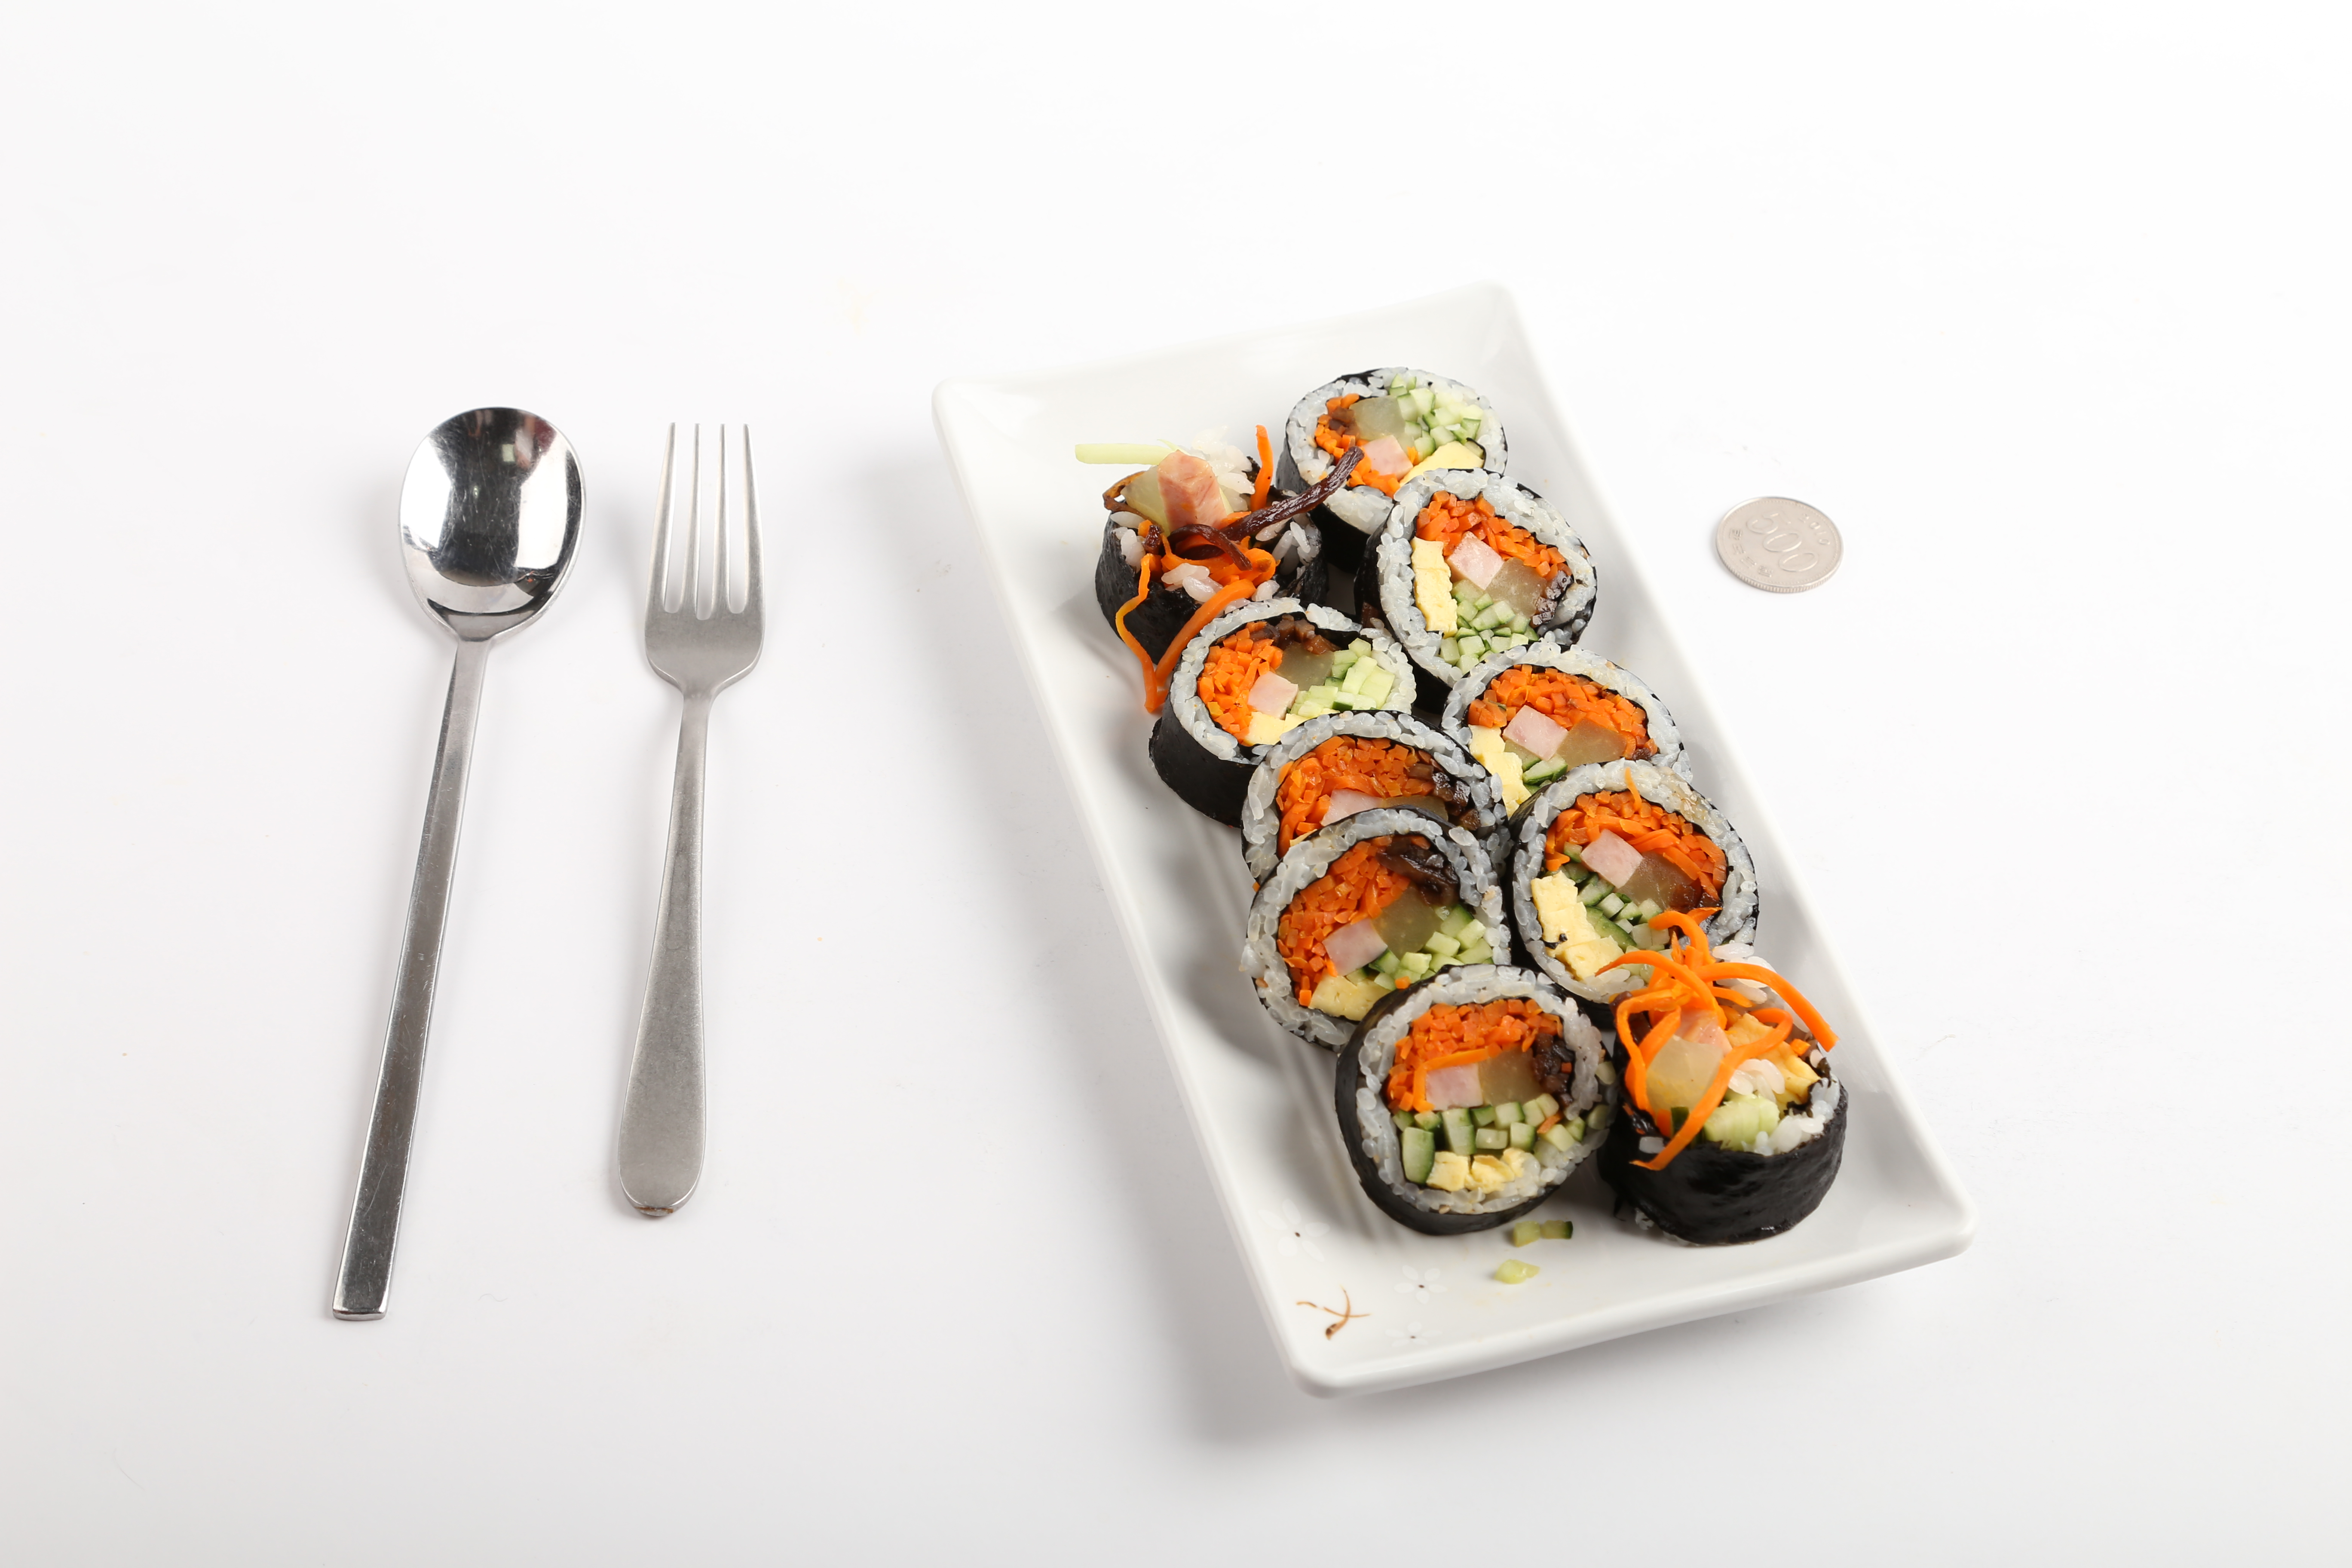dish: (924, 280, 1981, 1396)
ref_coin: (1706, 490, 1851, 602)
ref_fork: (639, 416, 772, 724)
ref_spoon: (392, 402, 584, 674)
김밥: (1094, 366, 1846, 1244)
